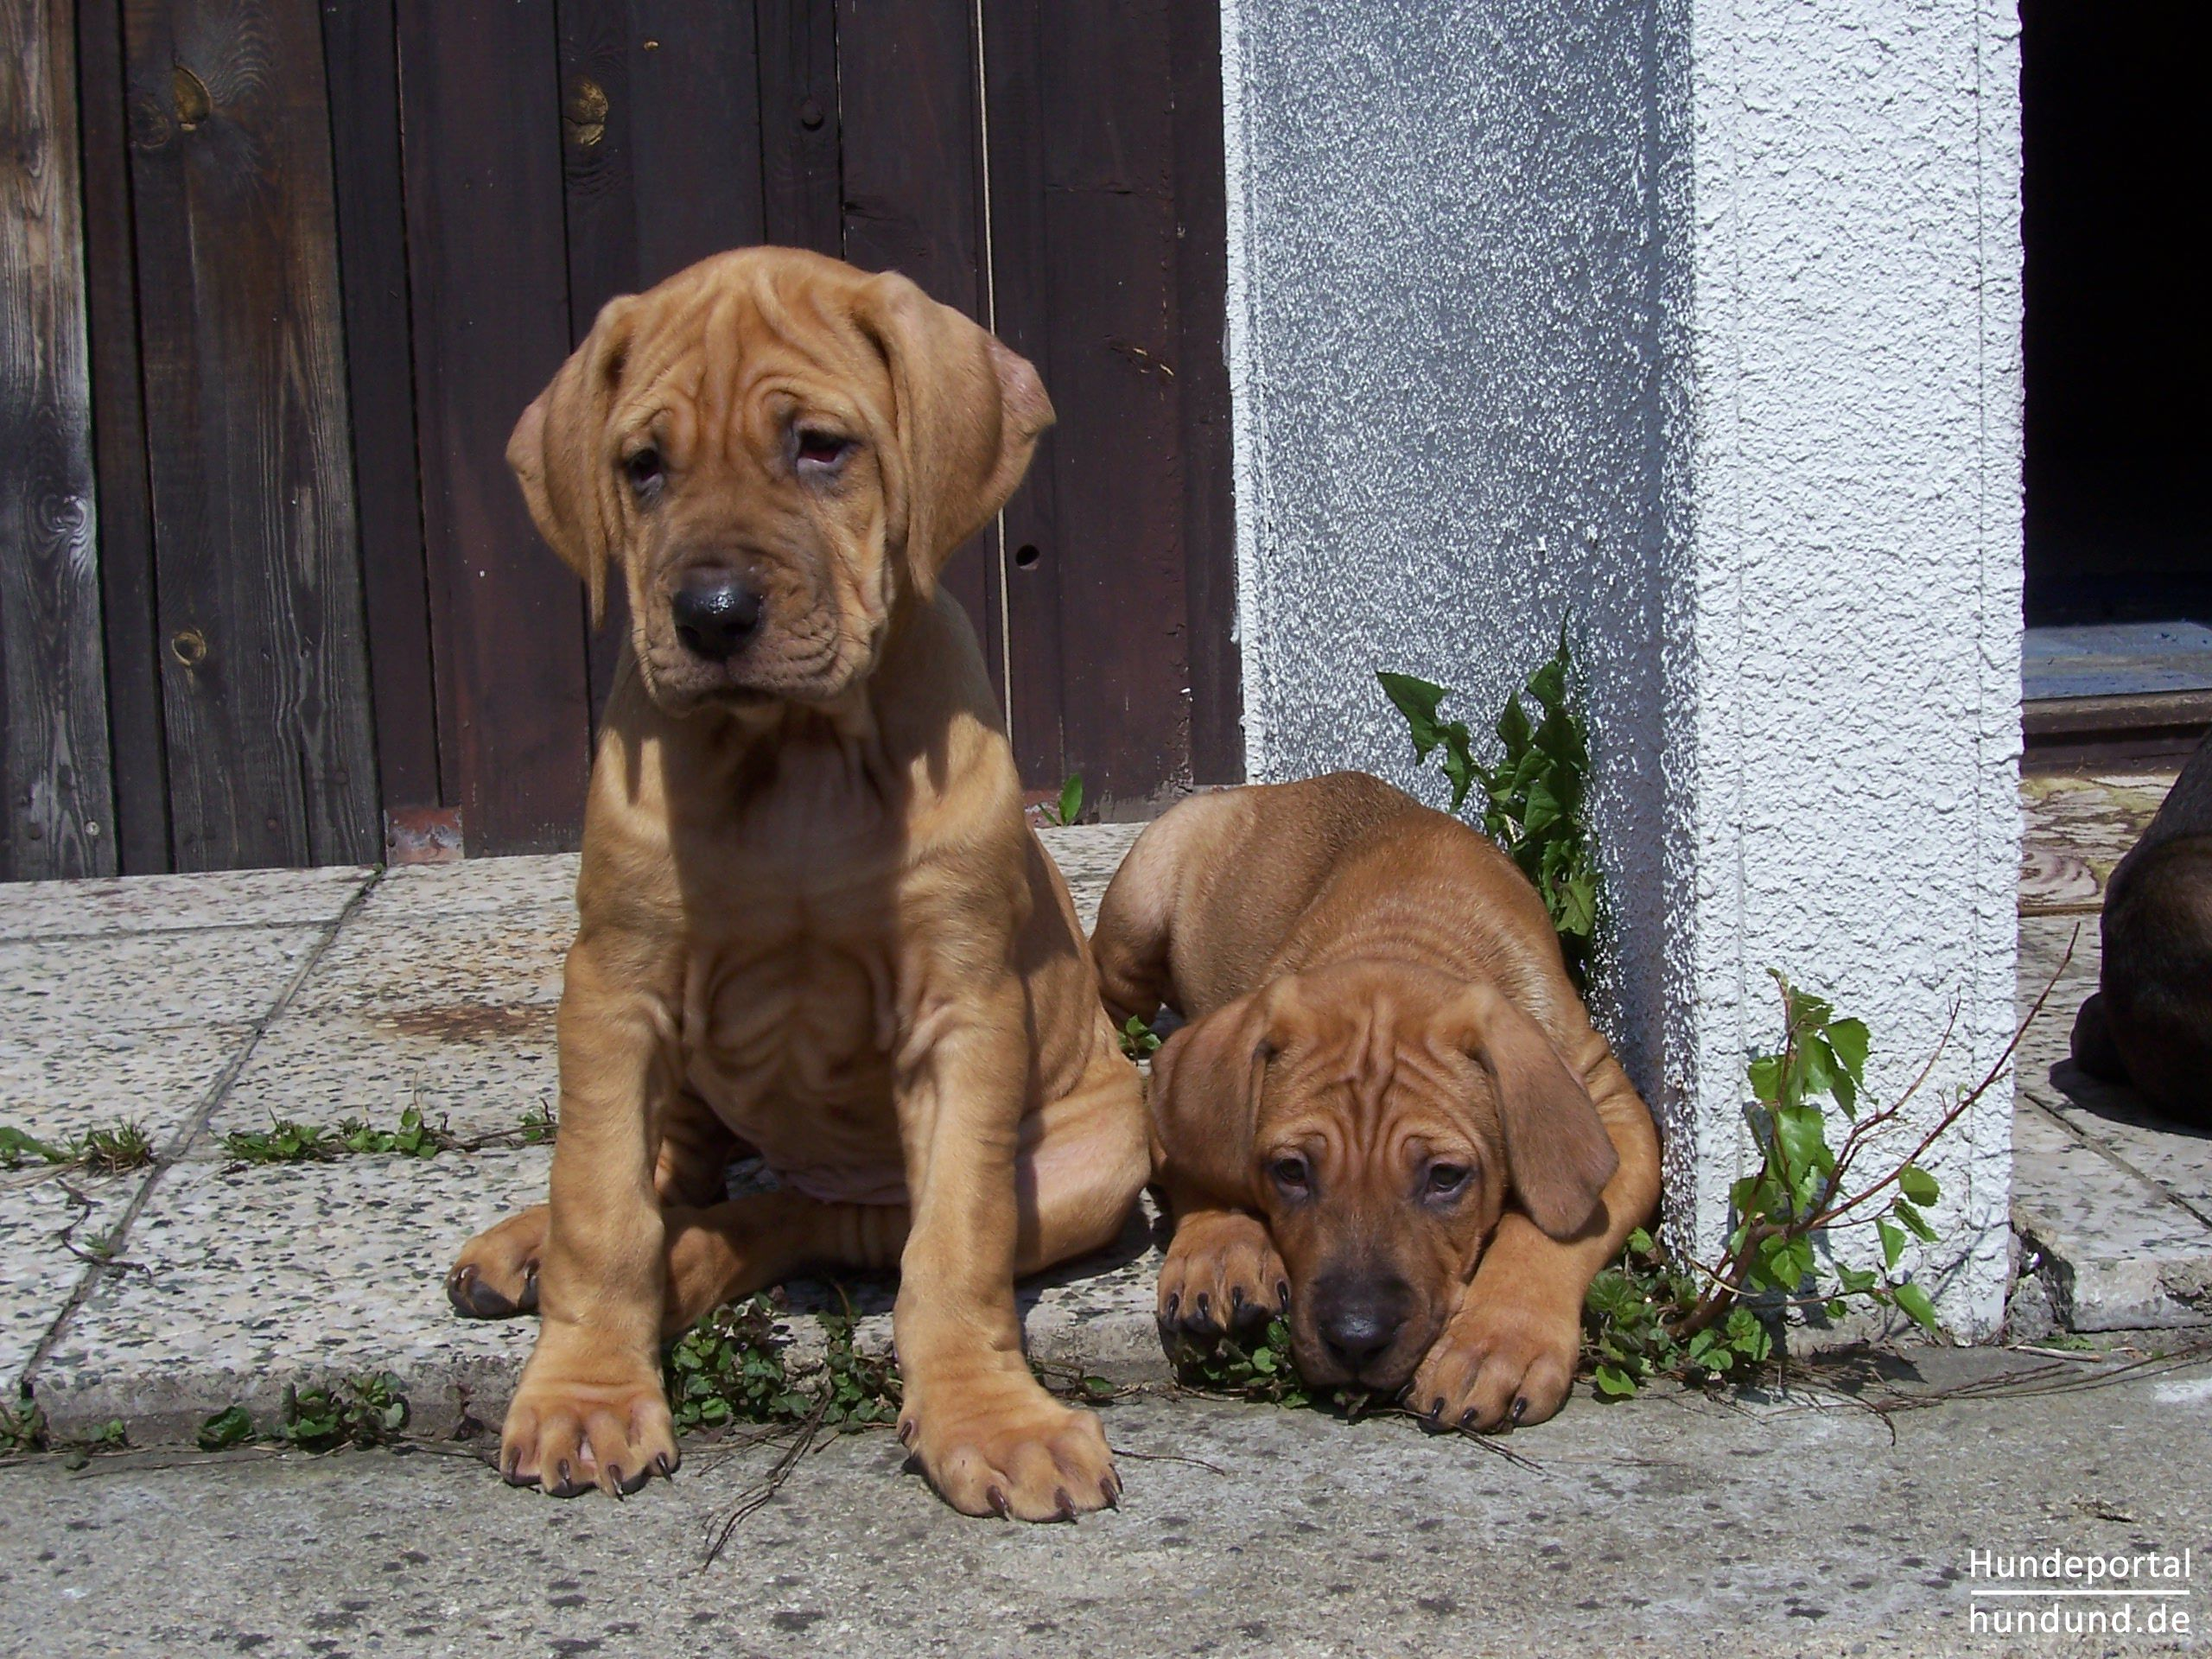tosa_inu: (439, 237, 1155, 1521), (1089, 770, 1662, 1436)
